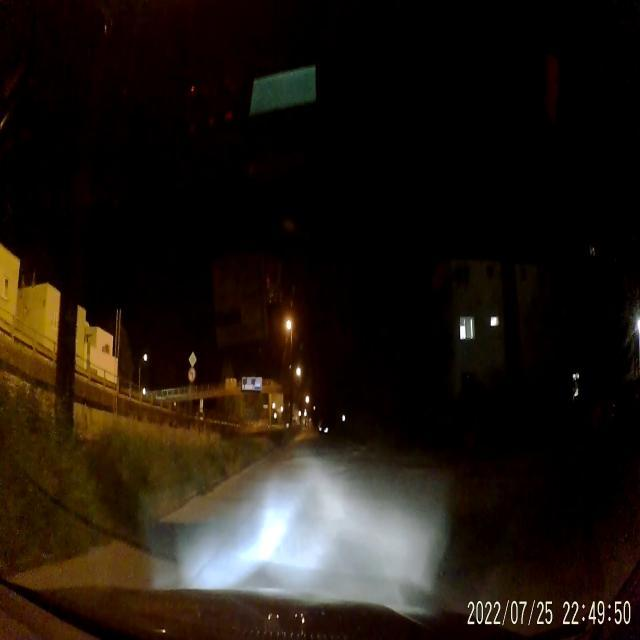Pothole: (346, 458, 354, 467)
